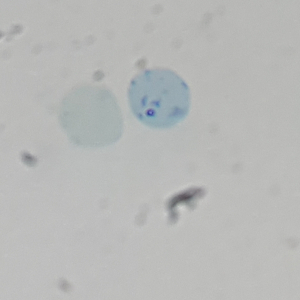aggregate reticulocyte: (126, 67, 192, 130)
erythrocyte: (58, 83, 124, 149)
